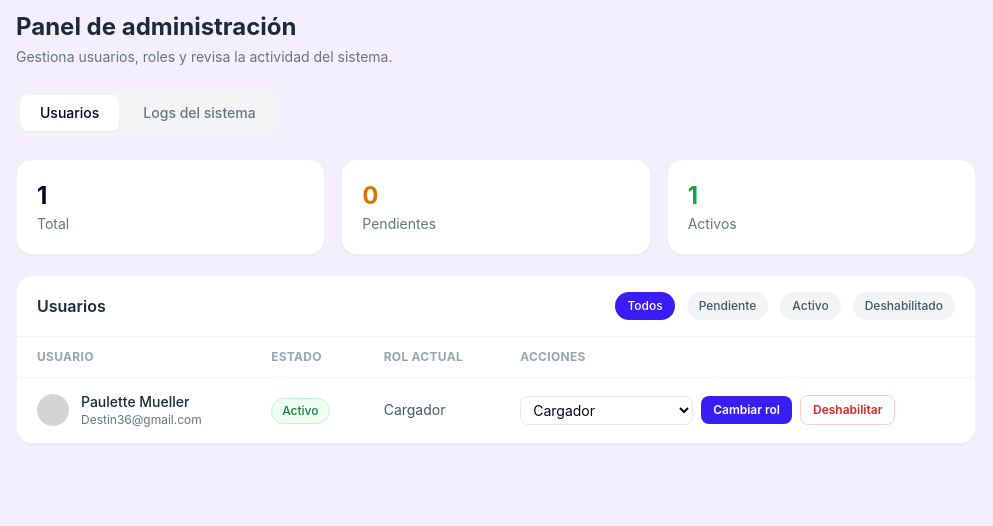
UsersTab › shows fallback error when disableUser fails without detail
This screenshot has width=993, height=526.
Click the button "Deshabilitar": (848, 410) [800,395,896,425]
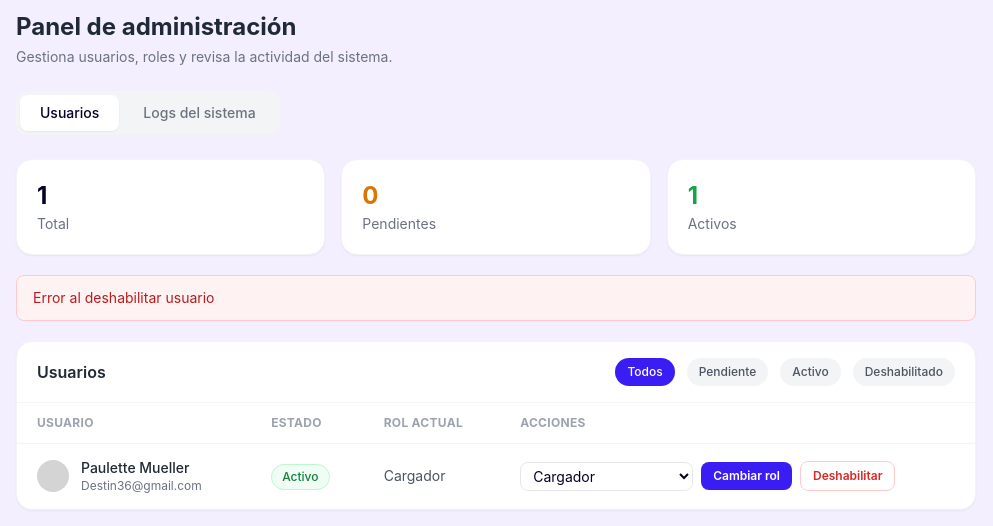
Expected: the text "Error al deshabilitar usuario" is shown, [16,275,976,321]
